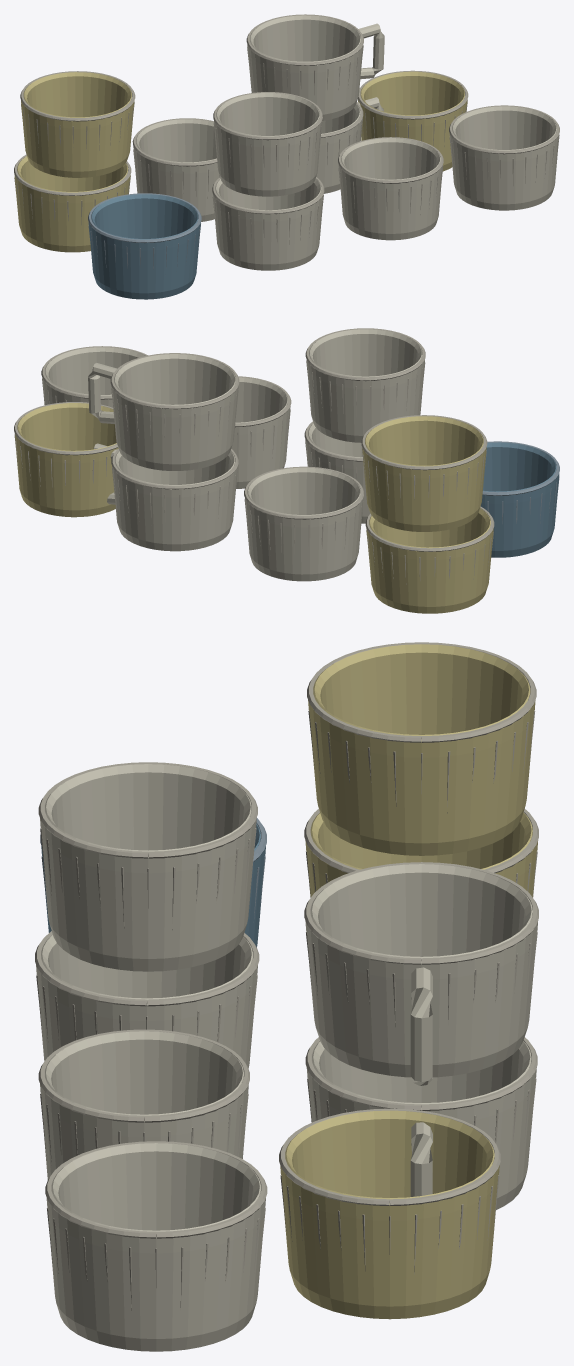
The model's file is pots.glb.
3 renders of one model, top to bottom at view 1: azimuth 30°, elevation 25°; view 2: azimuth 150°, elevation 25°; view 3: azimuth 270°, elevation 25°, orthographic. The views are drawn at different scales.
Visible parts, largest first — view 1: 실내 조명 베이크용 pots; view 2: 실내 조명 베이크용 pots; view 3: 실내 조명 베이크용 pots.
Part boxes in pixels (<box>): 실내 조명 베이크용 pots: <box>14,14,559,299</box>; 실내 조명 베이크용 pots: <box>14,328,559,613</box>; 실내 조명 베이크용 pots: <box>35,642,538,1351</box>.
Size of the model in its own units: 0.8084 by 0.2301 by 0.3798.
